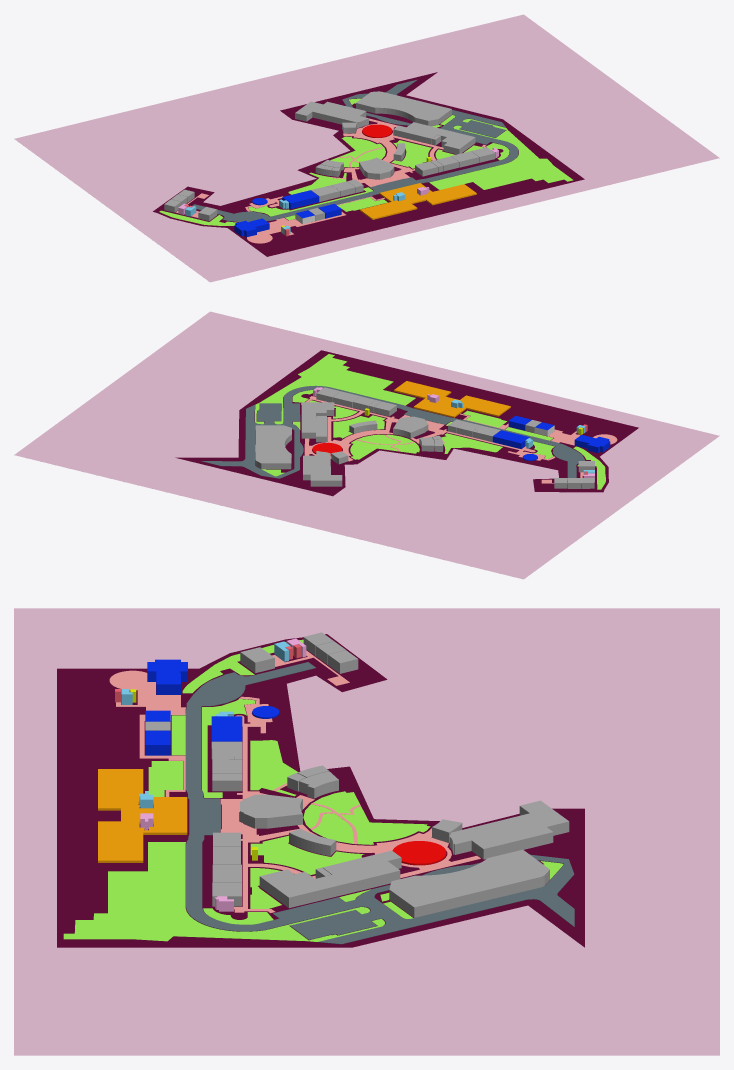
The model's file is wall.glb.
The picture shows the model from 3 angles, top to bottom: view 1: azimuth 30°, elevation 25°; view 2: azimuth 150°, elevation 25°; view 3: azimuth 270°, elevation 25°; orthographic projection. The views are drawn at different scales.
Parts seen in each view (by area): view 1: Grey, Base, None, Grass, Drive, Foot, Canteen | 45, Dance Studio 03, Sanctuary; view 2: Grey, Base, None, Grass, Drive, Foot, Canteen | 45, Dance Studio 03, Sanctuary; view 3: Grey, Base, None, Grass, Drive, Foot, Canteen | 45, Dance Studio 03, Atrium | 30, Sanctuary.
Boxes of the visible parts, x1,y1,x2,y2 form: Grey: (14,14,719,282); Base: (153,72,584,256); None: (164,91,495,220); Grass: (159,98,573,225); Drive: (192,79,518,222); Foot: (175,118,486,243); Canteen | 45: (360,183,476,219); Dance Studio 03: (234,218,269,237); Sanctuary: (282,190,319,208); Grey: (14,311,719,579); Base: (175,350,638,496); None: (255,387,594,488); Grass: (255,354,605,489); Drive: (200,385,585,480); Foot: (301,396,617,483); Canteen | 45: (394,381,510,417); Dance Studio 03: (574,435,610,452); Sanctuary: (492,430,529,448); Grey: (14,608,719,1055); Base: (57,634,584,947); None: (145,632,569,917); Grass: (63,639,563,941); Drive: (185,662,574,944); Foot: (109,650,480,913); Canteen | 45: (98,769,187,862); Dance Studio 03: (147,659,187,694); Atrium | 30: (392,841,446,865); Sanctuary: (211,716,242,741).
Size of the model in its own units: 18 by 0.203 by 12.
